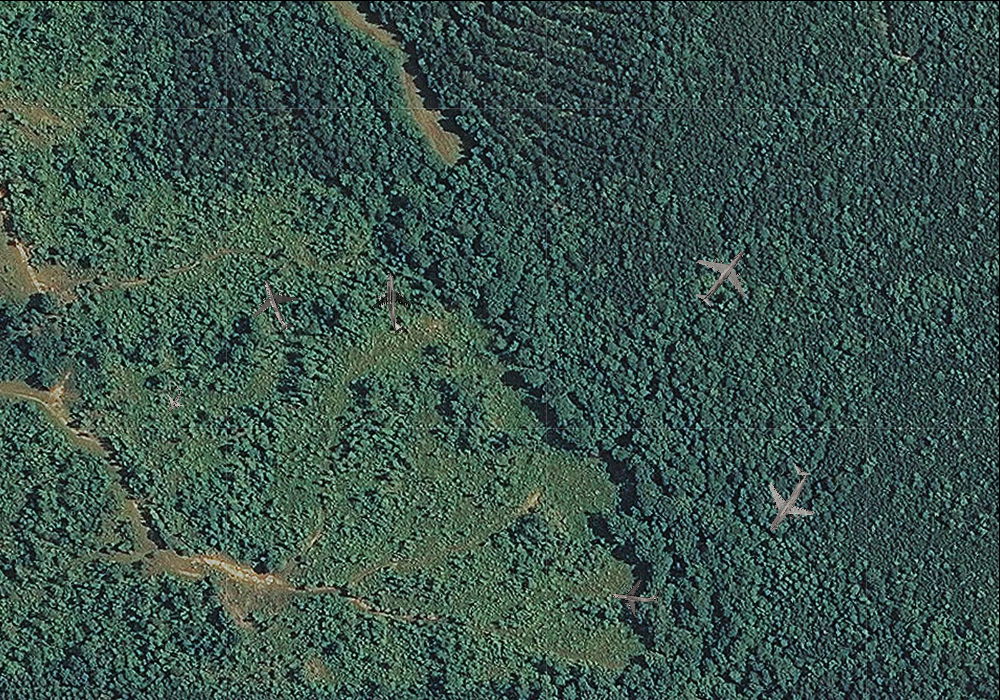plane: (741, 452, 834, 547), (678, 231, 767, 321), (242, 270, 310, 340), (367, 271, 422, 336), (609, 571, 662, 621), (155, 381, 192, 419)
